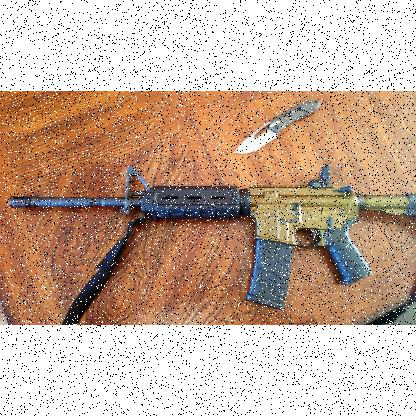gun: (7, 165, 414, 324)
